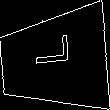L_W: (33, 43, 75, 78)
